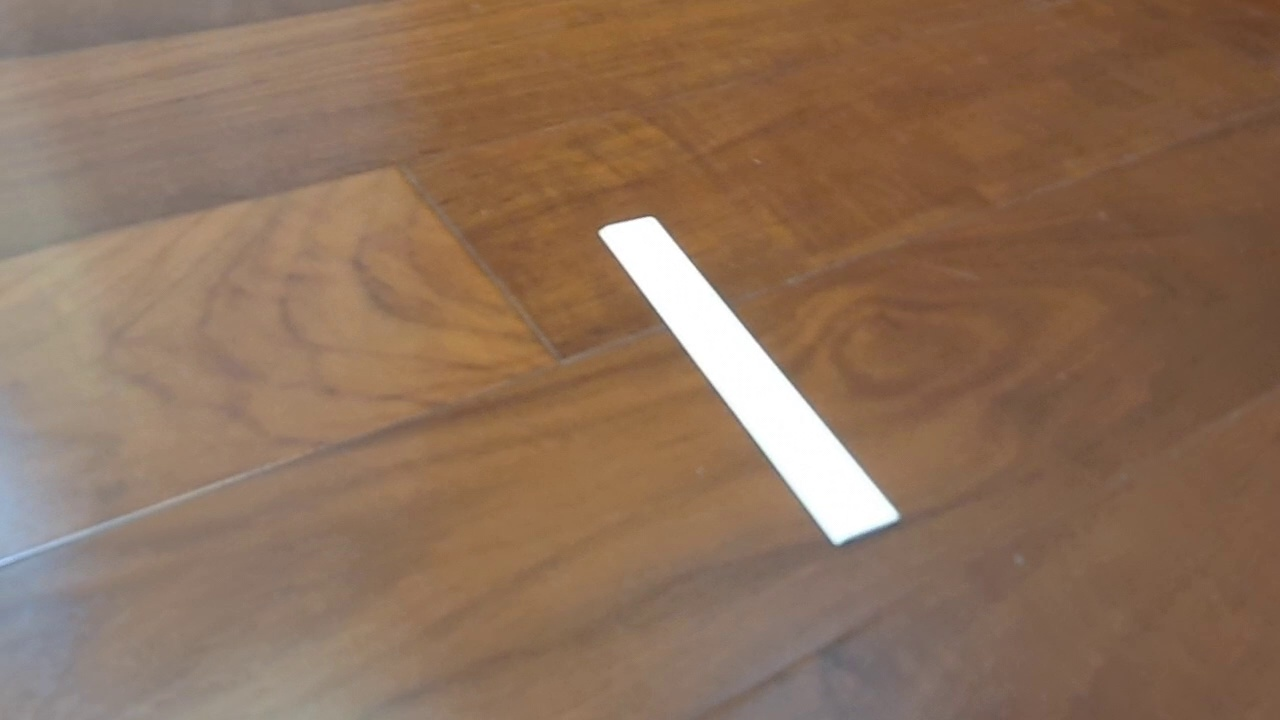ruler: (596, 214, 902, 548)
